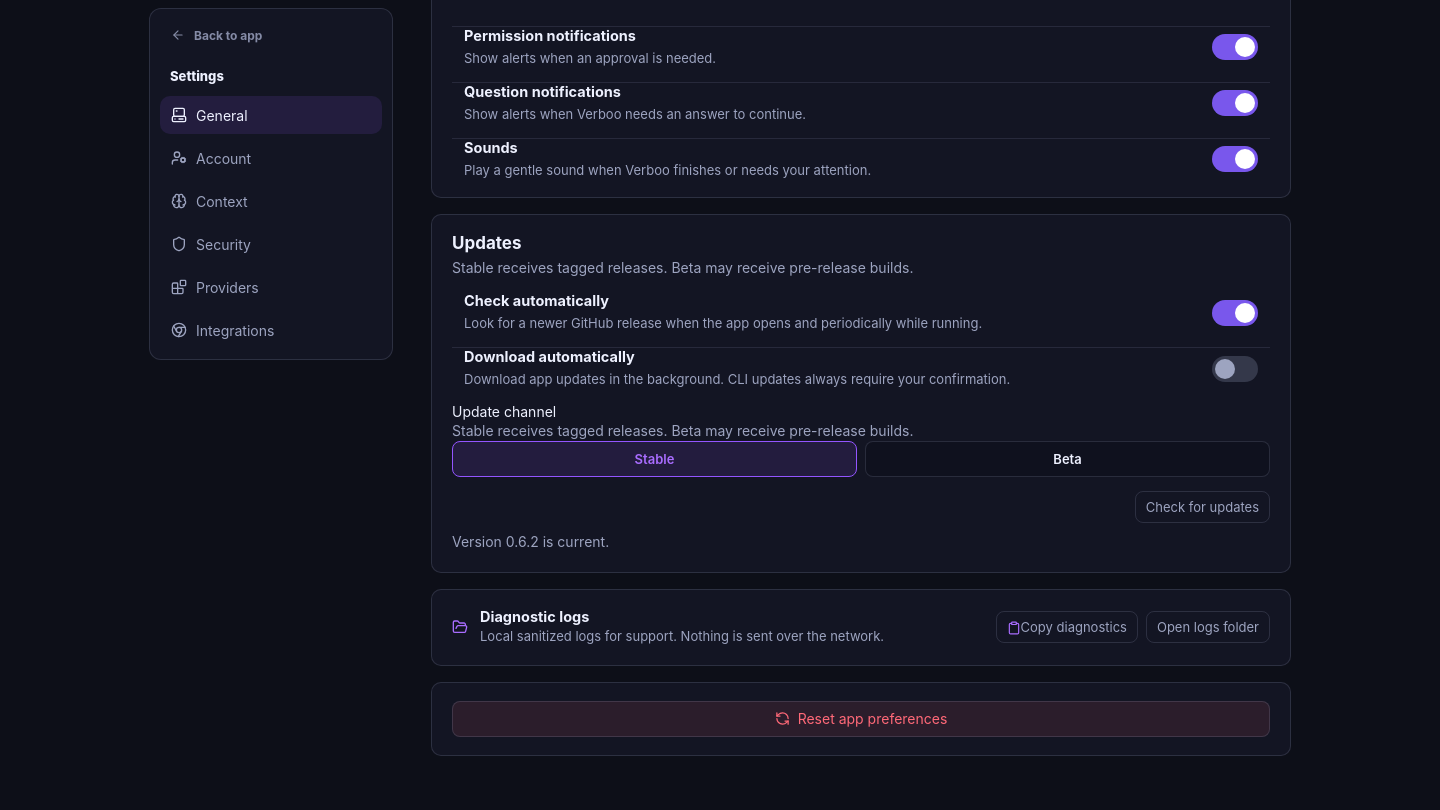
Test: SettingsView redesign → the five grouped tabs keep their real controls › copies the sanitized diagnostic package and confirms success
(page scrolled)
Click the button "Copy diagnostics" at [1067, 627], box [996,611,1138,643]
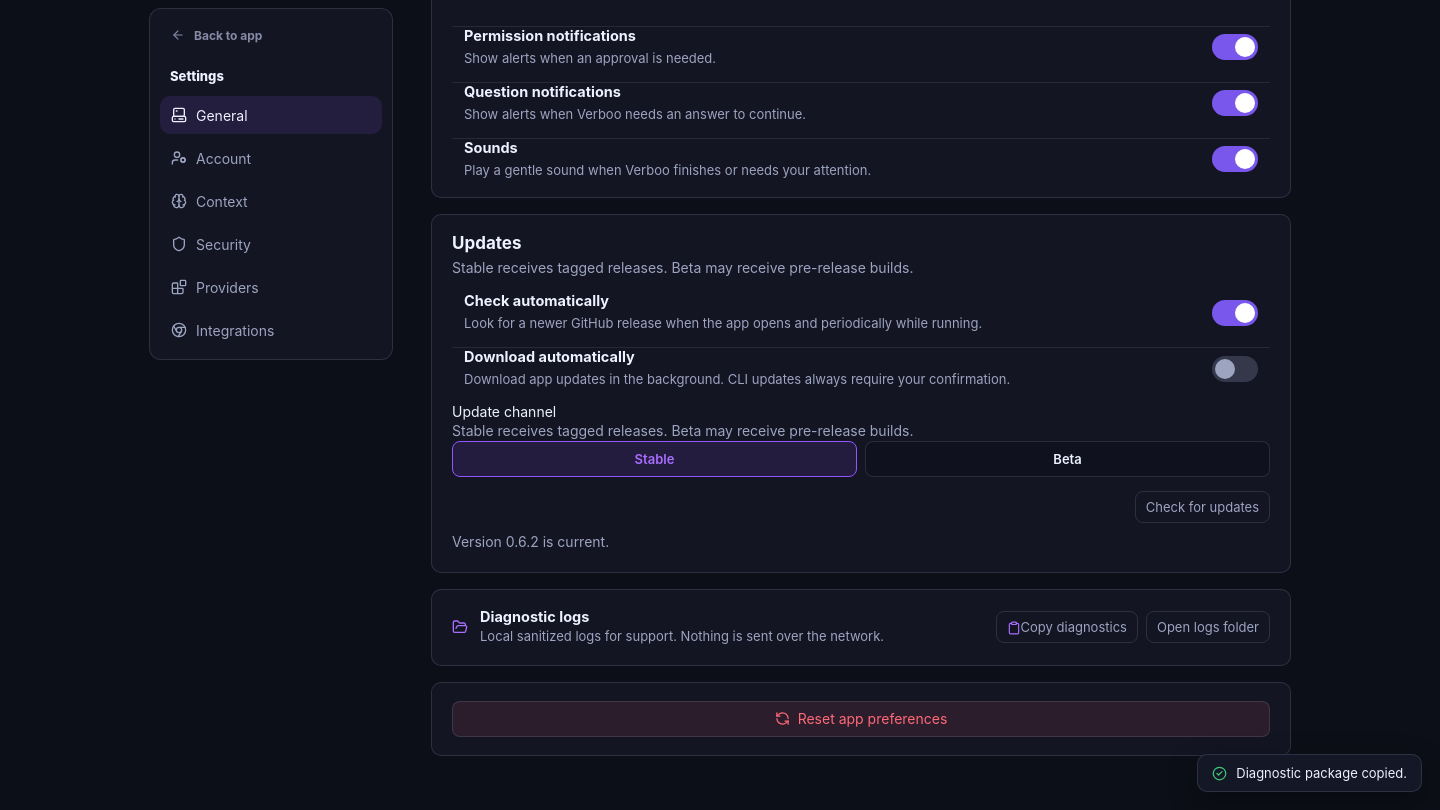
Expected: the button "Diagnostic package copied." is shown, [1197,754,1422,792]
